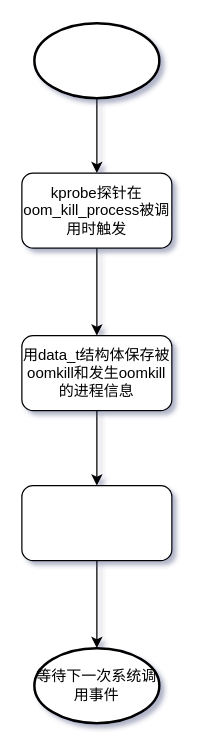
The diagram is 201 pixels wide and 753 high, and some of its shapes have lost their labels. Each missing label, with the centre of its shape:
BPF程序载入: the point at 96,60
将data_t结构体信息数据写入环形缓冲区: the point at 96,522
